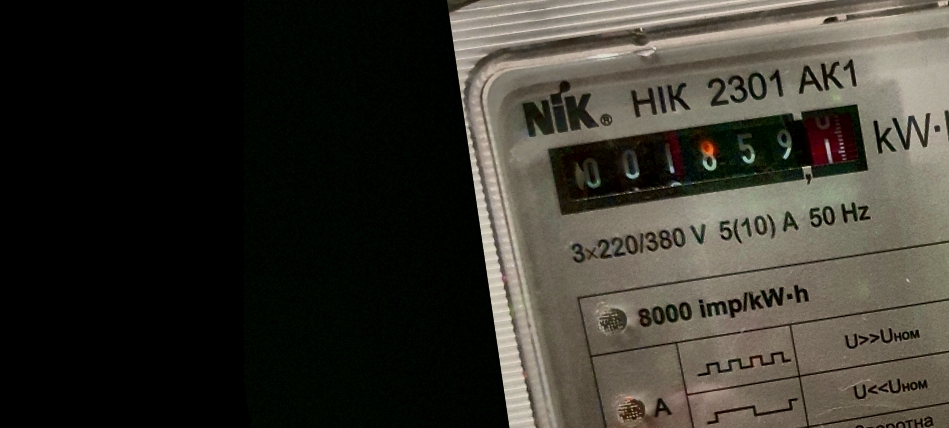0: (580, 153, 604, 191), (618, 145, 642, 180)
1: (661, 138, 678, 175), (820, 133, 836, 165)
5: (734, 128, 759, 166)
8: (696, 135, 721, 173)
9: (773, 124, 797, 161)
screen: (536, 89, 880, 226)
